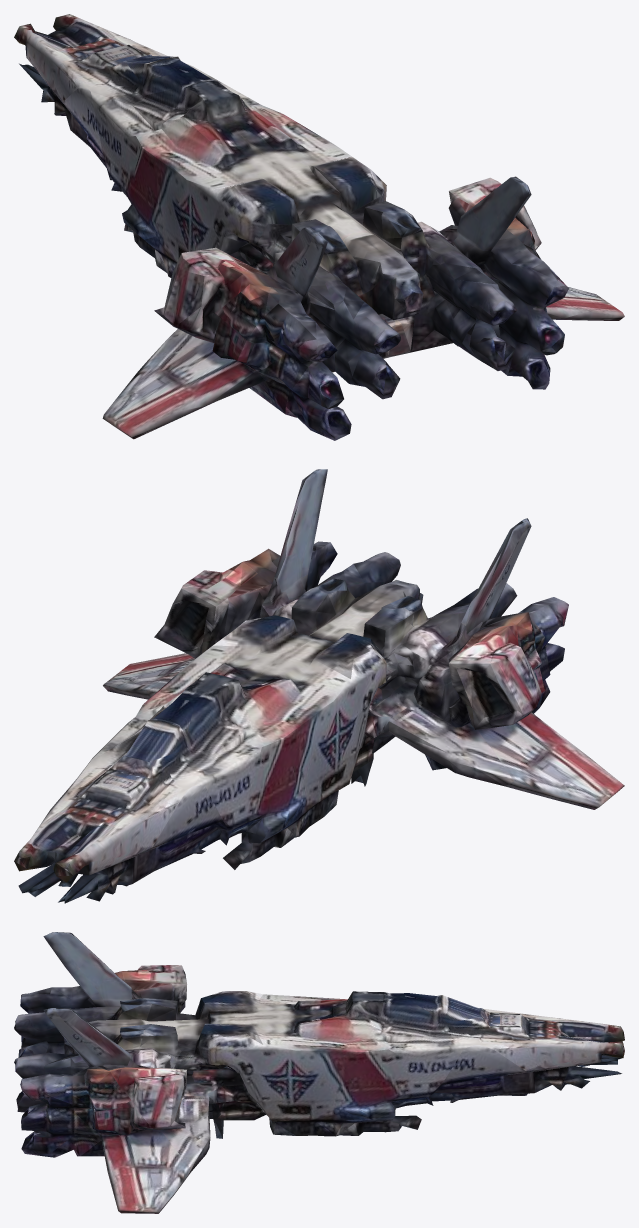
Rendered from liberator_fighter.glb.
3 views of the same model, one above another, from view 1: azimuth 30°, elevation 25°; view 2: azimuth 150°, elevation 25°; view 3: azimuth 270°, elevation 25° (orthographic). The views are drawn at different scales.
Parts seen in each view (by area): view 1: liberator_jet_a; view 2: liberator_jet_a; view 3: liberator_jet_a.
Boxes of the visible parts, left/top/right/bottom form: liberator_jet_a: left=14, top=14, right=624, bottom=440; liberator_jet_a: left=14, top=469, right=624, bottom=903; liberator_jet_a: left=14, top=932, right=624, bottom=1213.
Bounding box in the file's own units: 0.2739 × 0.1079 × 0.3872.
Materials: 1 (1 with a texture image).
